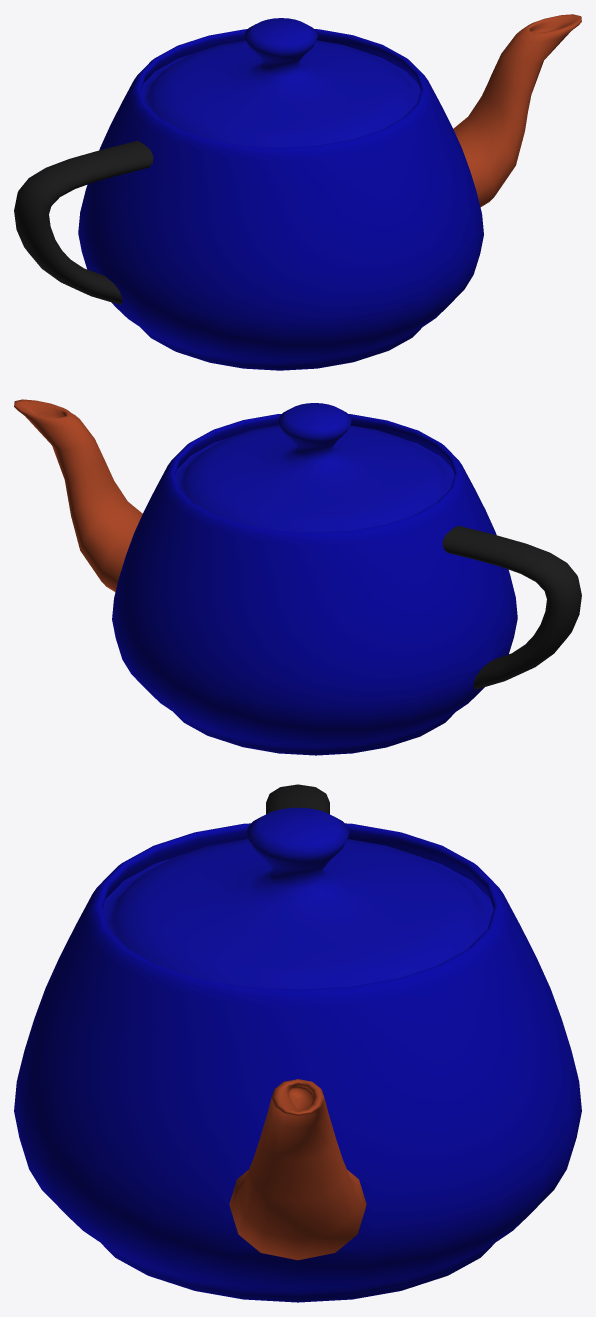
Rendered from Teapot2.obj.
3 views of the same model, one above another, from view 1: azimuth 30°, elevation 25°; view 2: azimuth 150°, elevation 25°; view 3: azimuth 270°, elevation 25° (orthographic). The views are drawn at different scales.
Parts seen in each view (by area): view 1: teapot.005_teapot.005_Pot, teapot.005_teapot.005_Lid, teapot.005_teapot.005_Spout, teapot.005_teapot.005_Handle; view 2: teapot.005_teapot.005_Pot, teapot.005_teapot.005_Lid, teapot.005_teapot.005_Spout, teapot.005_teapot.005_Handle; view 3: teapot.005_teapot.005_Pot, teapot.005_teapot.005_Lid, teapot.005_teapot.005_Spout, teapot.005_teapot.005_Handle.
Part boxes in pixels (x1,y1,x2,y2): teapot.005_teapot.005_Pot: (78,29,483,370); teapot.005_teapot.005_Lid: (141,18,420,147); teapot.005_teapot.005_Spout: (453,14,581,207); teapot.005_teapot.005_Handle: (14,140,153,304); teapot.005_teapot.005_Pot: (112,414,517,755); teapot.005_teapot.005_Lid: (175,403,454,532); teapot.005_teapot.005_Spout: (14,399,142,592); teapot.005_teapot.005_Handle: (442,525,581,689); teapot.005_teapot.005_Pot: (14,823,581,1302); teapot.005_teapot.005_Lid: (102,807,493,989); teapot.005_teapot.005_Spout: (229,1079,366,1260); teapot.005_teapot.005_Handle: (266,784,329,814).
Size of the model in its own units: 1.62 by 0.7935 by 1.01.
